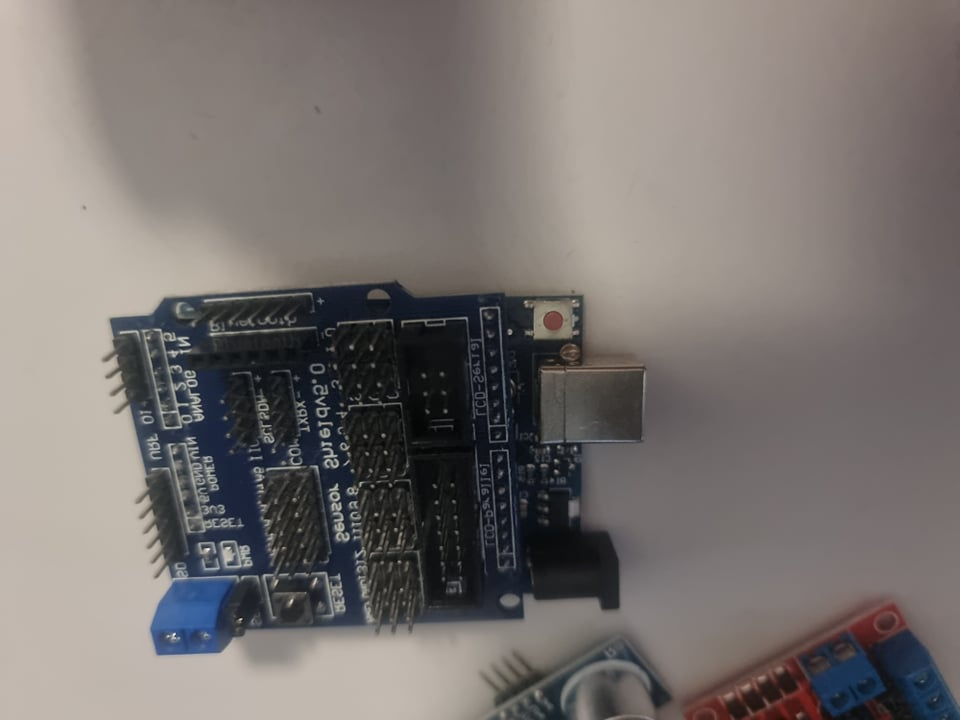UNO R3: (100, 283, 669, 668)
